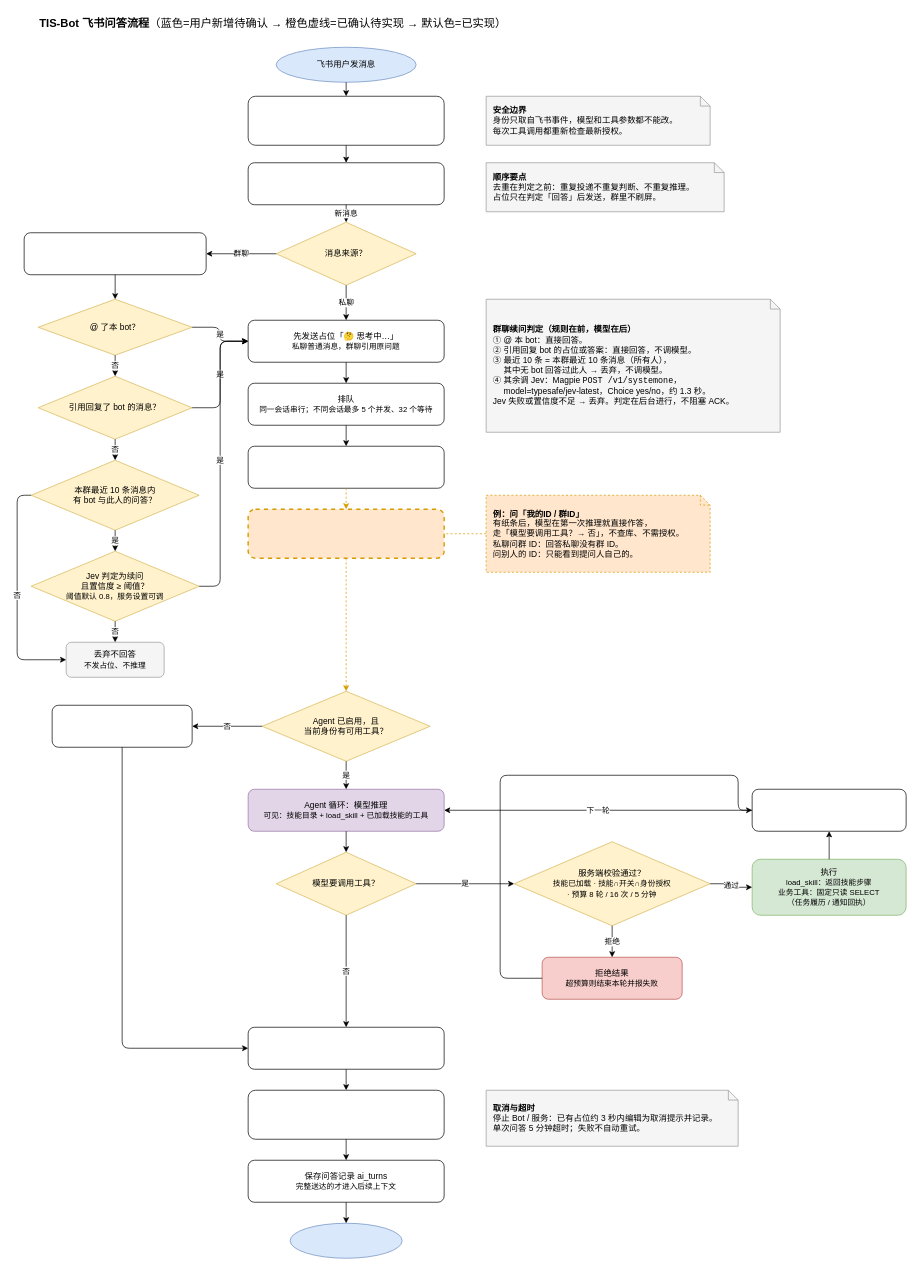
Image size: 918x1271. Some labels were removed from this diagram. Each missing label, with the box of its shape:
【待实现】附身份小纸条 提问人 ID、群 ID（私聊无）、应用 ID 来自服务端，不经授权、不调工具: (247, 508, 444, 559)
得到最终答案 生成失败则答案为失败提示: (247, 1027, 444, 1069)
持久去重 重复投递 / 短暂重连：不重复判断、不重复推理: (247, 162, 444, 205)
普通问答 单轮纯文本，不带任何工具: (51, 705, 192, 747)
服务端长连接收到事件 飞书同时提供：发送人 ID、群 ID、应用 ID （平台给的，用户改不了）: (247, 96, 444, 145)
结束: (289, 1223, 402, 1258)
结果写审计 agent.sqlite3 并回给模型: (751, 789, 906, 831)
编辑占位消息为答案 编辑失败 → 按私聊/群聊规则新发 超长 → 按 15000 字节分段: (247, 1090, 444, 1139)
群文字消息写入内存窗口 每群最近 10 条，含未 @ 的消息；不入库，重启清空: (23, 232, 206, 275)
读取历史上下文 相邻轮次 2 小时内连续；合计 ≤ 20 万字符: (247, 446, 444, 488)
